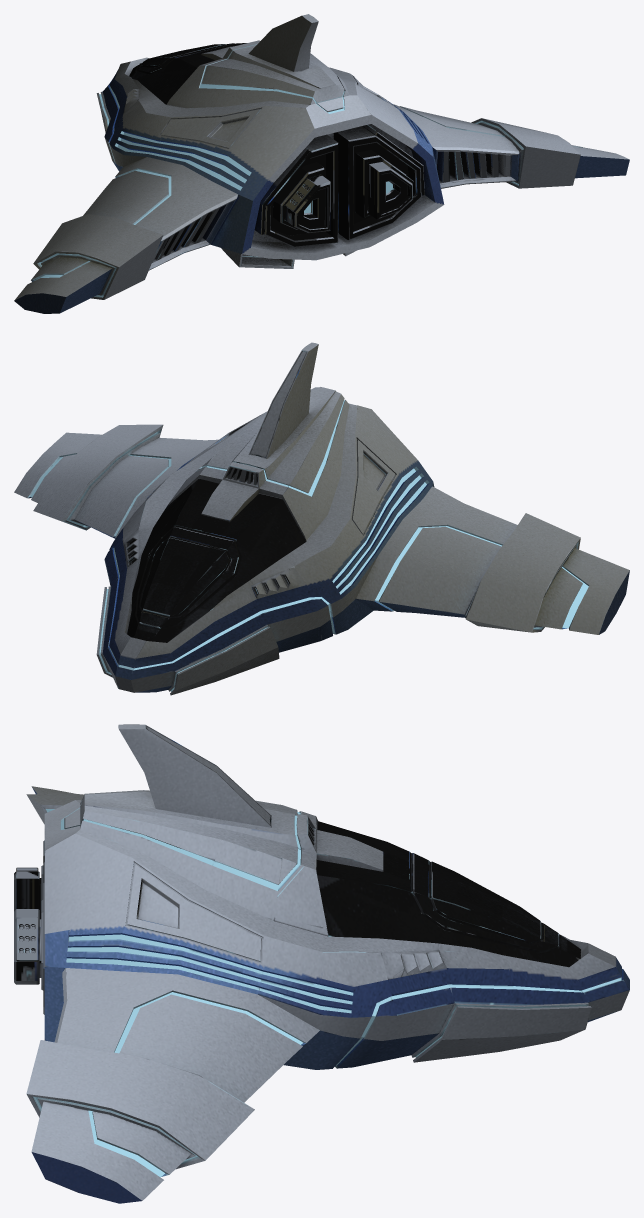
File: spaceship,simple-denapes.obj
3 views of the same model, one above another, from view 1: azimuth 30°, elevation 25°; view 2: azimuth 150°, elevation 25°; view 3: azimuth 270°, elevation 25° (orthographic). The views are drawn at different scales.
Parts seen in each view (by area): view 1: Spaceship_Plane; view 2: Spaceship_Plane; view 3: Spaceship_Plane.
Part boxes in pixels (box(x1,y1,x2,y2)): Spaceship_Plane: box(14, 14, 629, 313); Spaceship_Plane: box(14, 342, 629, 695); Spaceship_Plane: box(14, 724, 629, 1203).
Size of the model in its own units: 10.66 by 4.14 by 7.31.
Materials: 1 (1 with a texture image).
